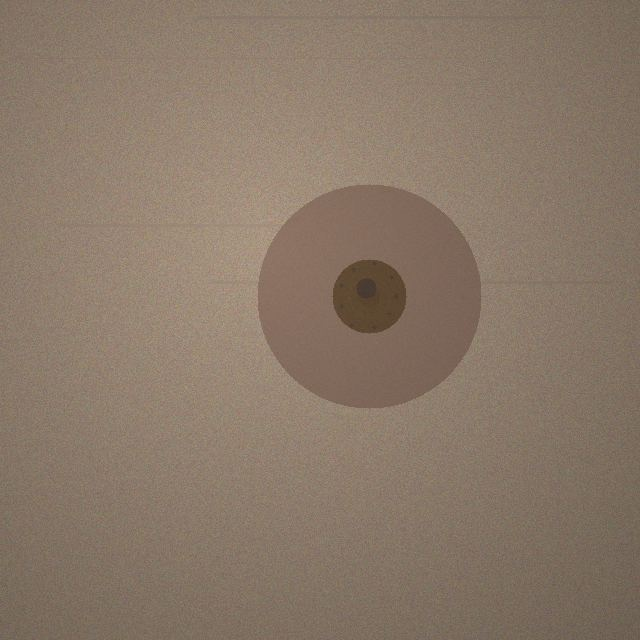cold_weld: (257, 184, 481, 408)
